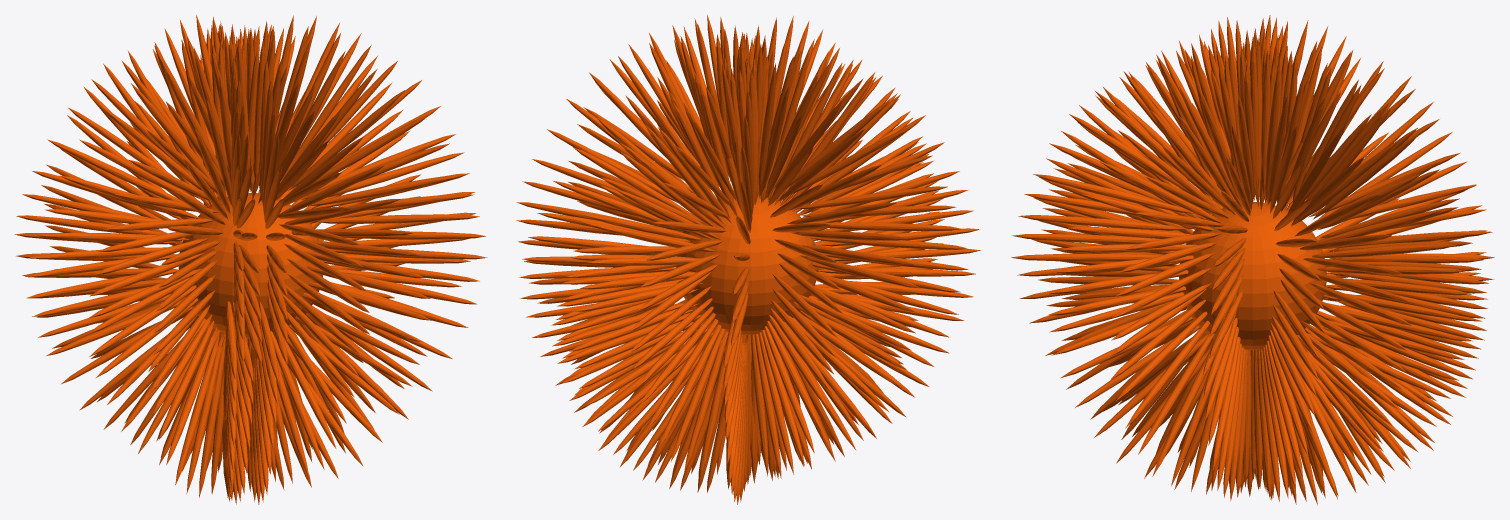
File: fireworkorange.glb
3 views of the same model, side by side, from view 1: azimuth 30°, elevation 25°; view 2: azimuth 150°, elevation 25°; view 3: azimuth 270°, elevation 25° (orthographic). The views are drawn at different scales.
Parts seen in each view (by area): view 1: sparks1; view 2: sparks1; view 3: sparks1.
Boxes of the visible parts, x1,y1,x2,y2 form: sparks1: (14,15,487,504); sparks1: (516,15,980,504); sparks1: (1011,15,1494,505).
Bounding box in the file's own units: 11.21 × 12 × 11.44.
